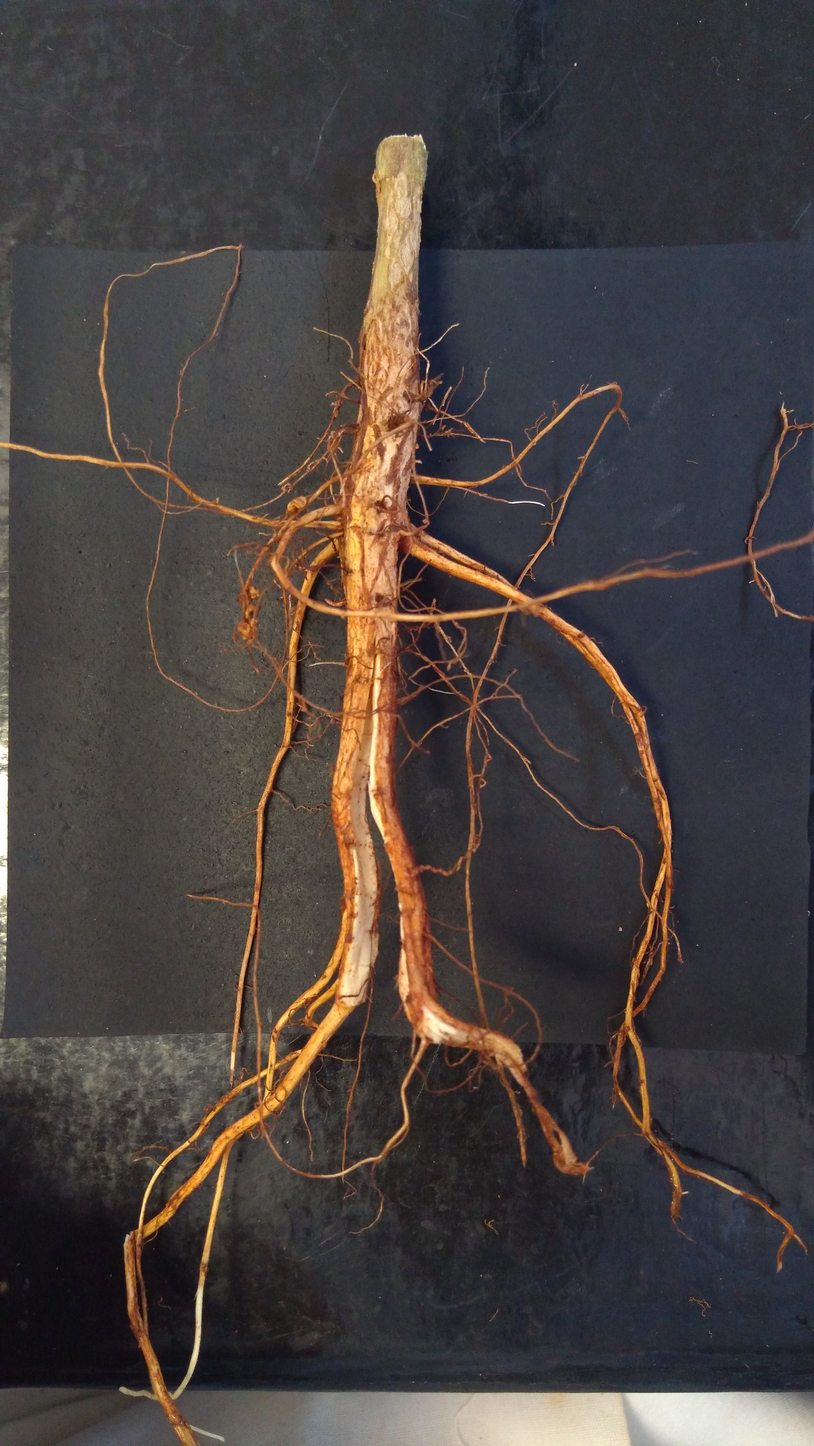nodule: (391, 413, 416, 438), (286, 495, 308, 515), (236, 620, 256, 641), (326, 430, 342, 453), (244, 603, 259, 626), (248, 584, 260, 600), (332, 399, 341, 418), (444, 635, 452, 644)
